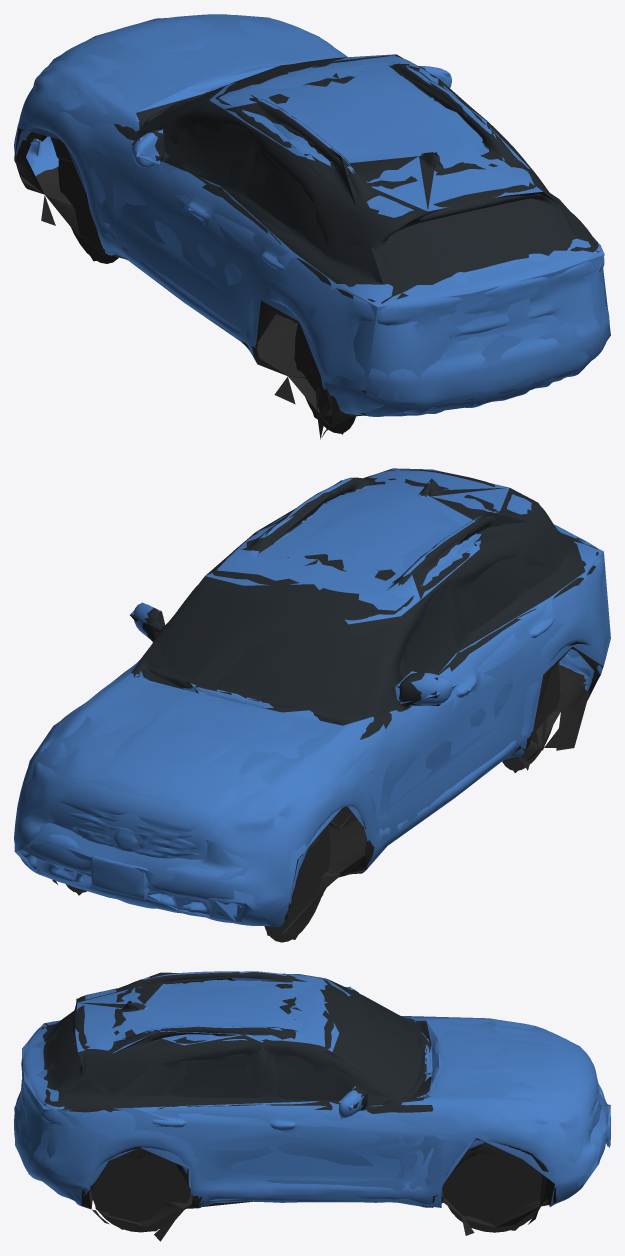
The model's file is infiniti-fx50.glb.
3 views of the same model, one above another, from view 1: azimuth 30°, elevation 25°; view 2: azimuth 150°, elevation 25°; view 3: azimuth 270°, elevation 25° (orthographic). The views are drawn at different scales.
Parts seen in each view (by area): view 1: body, far; view 2: body, far; view 3: body, far.
Boxes of the visible parts, x1,y1,x2,y2 form: body: (14, 14, 609, 438); far: (14, 15, 610, 439); body: (14, 469, 609, 942); far: (14, 468, 610, 939); body: (14, 971, 610, 1241); far: (14, 972, 610, 1234).
Size of the model in its own units: 2.29 by 1.8 by 4.89.
